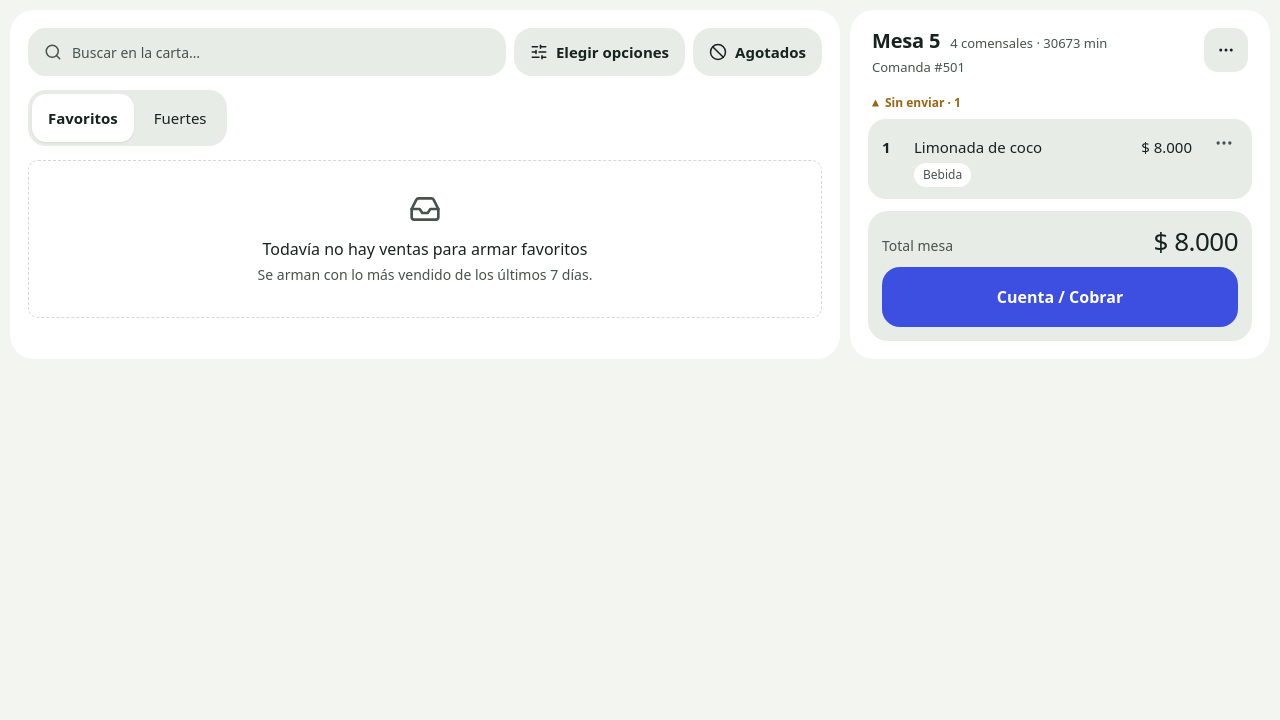
Test: OrderPage › toque en la carta › un plato con un grupo de modificadores obligatorio abre el diálogo en vez de sumarlo
Click the button "Fuertes". click: (180, 118)
box: [138,94,223,142]
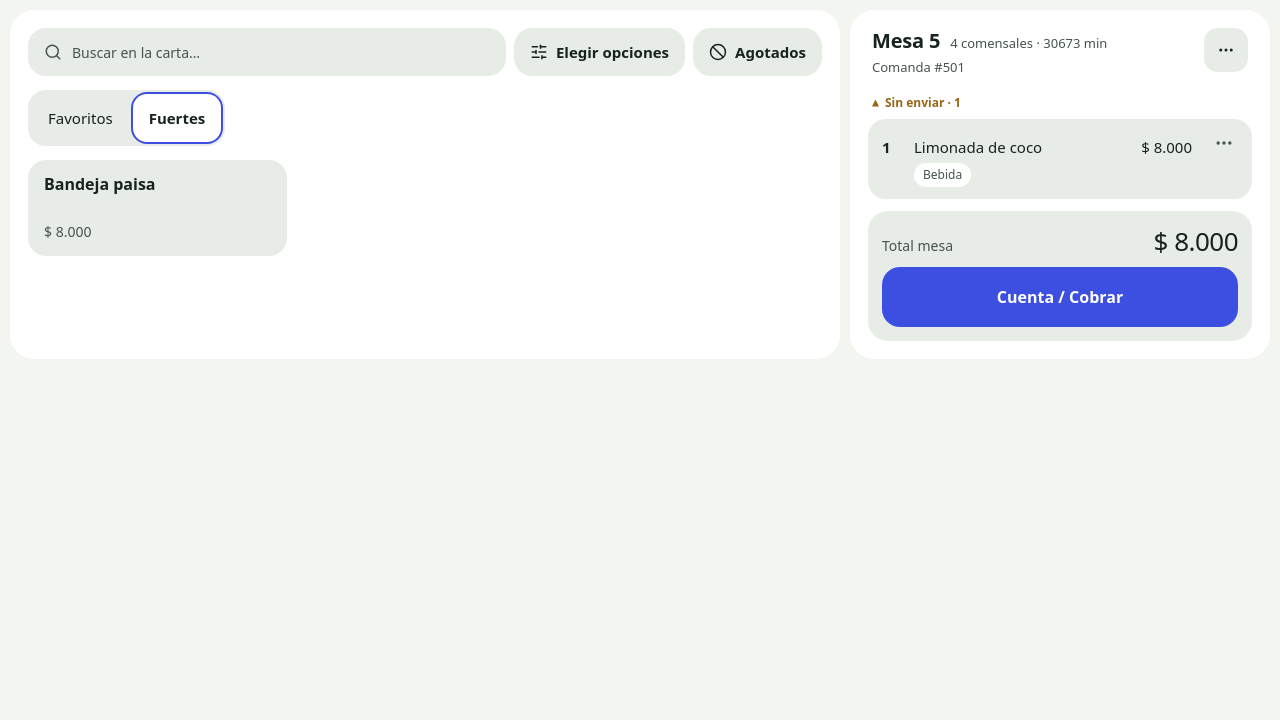
Click the button with aria-label "agregar bandeja paisa". click: (158, 208)
box: [28,160,287,256]
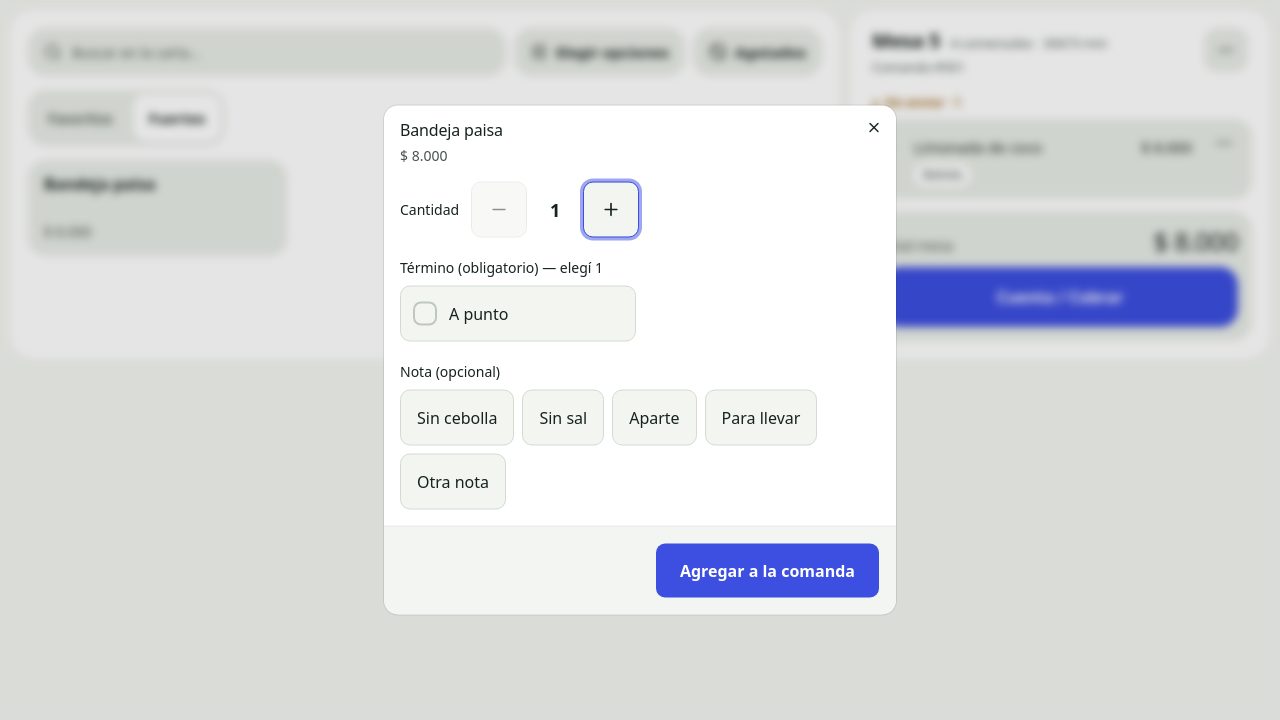
Check: the text "Término (obligatorio) — elegí 1" is shown, box [400,258,603,278]
